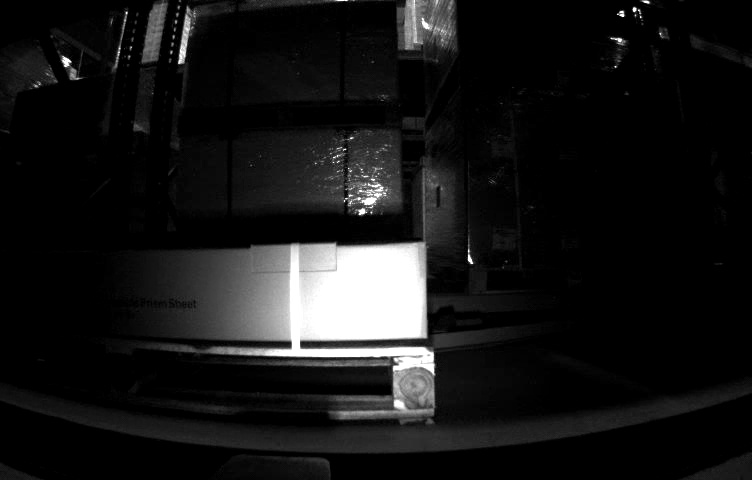True Barcode: (348, 266, 409, 320)
